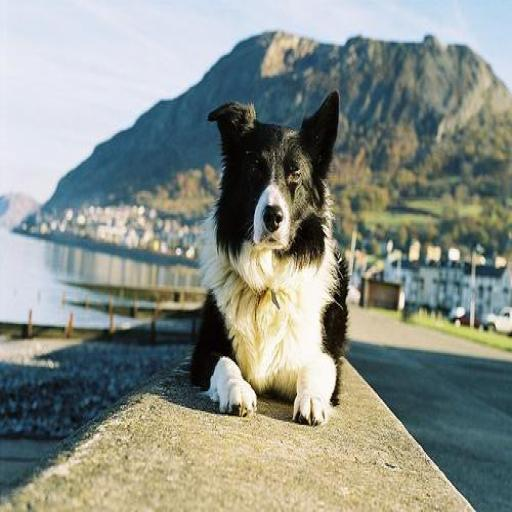dog_face: (209, 94, 341, 268)
